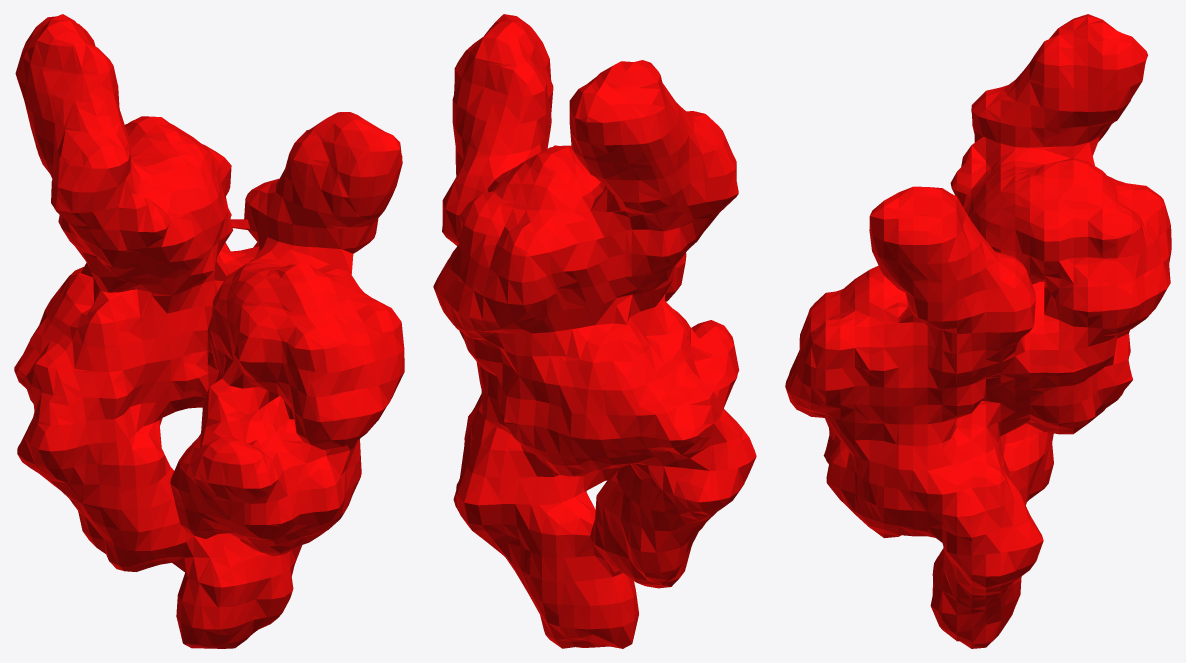
File: dacC_coarse.dae
3 views of the same model, side by side, from view 1: azimuth 30°, elevation 25°; view 2: azimuth 150°, elevation 25°; view 3: azimuth 270°, elevation 25° (orthographic). The views are drawn at different scales.
Parts seen in each view (by area): view 1: dacC; view 2: dacC; view 3: dacC.
Boxes of the visible parts, x1,y1,x2,y2 form: dacC: (14,14,404,648); dacC: (433,14,756,648); dacC: (785,14,1171,648).
Bounding box in the file's own units: 86.33 × 160 × 97.13.
